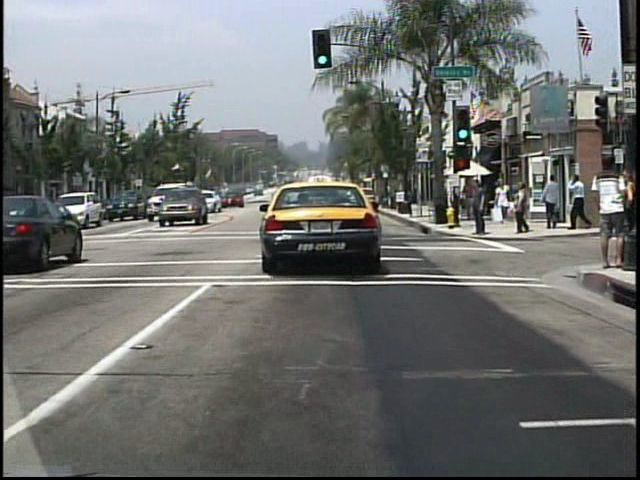person: (596, 151, 634, 276), (565, 171, 589, 231), (470, 181, 489, 239), (543, 173, 562, 231), (461, 178, 481, 226), (514, 183, 532, 234), (495, 179, 512, 227)
